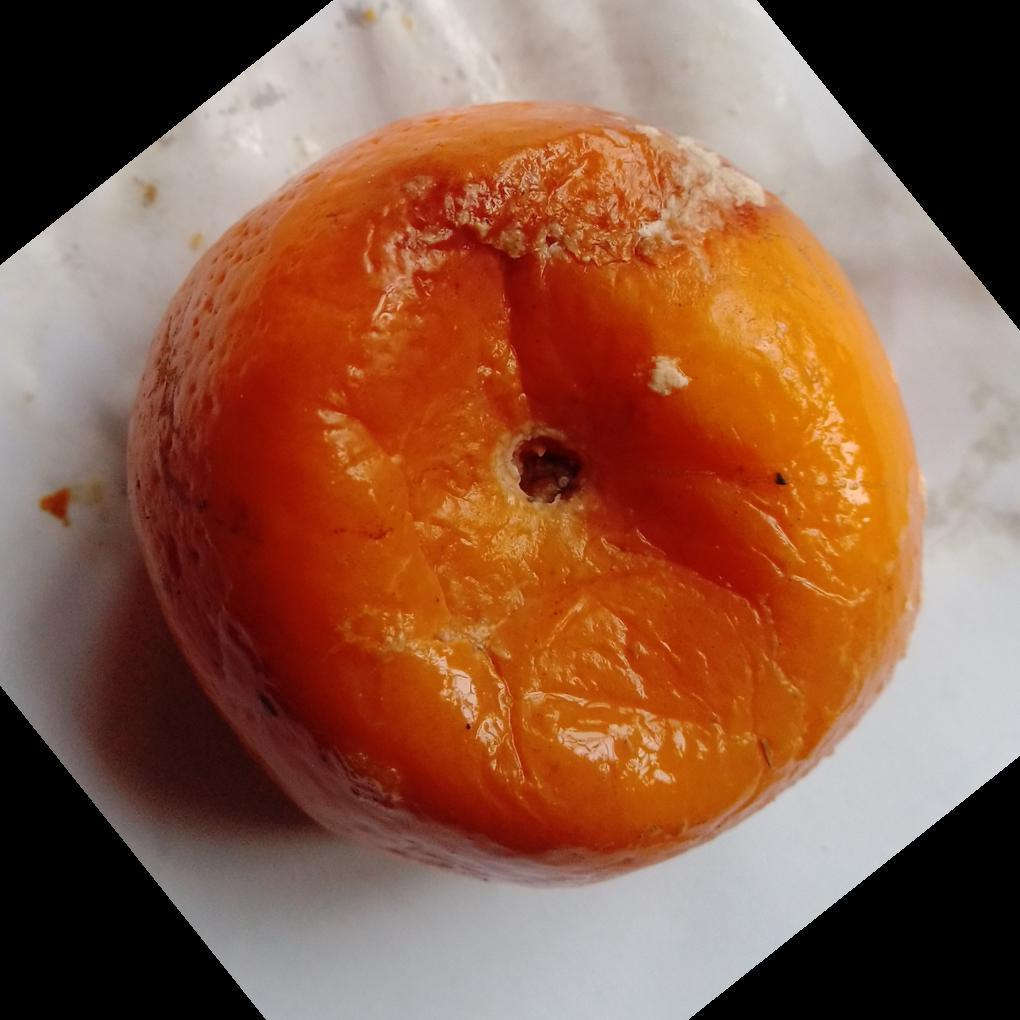FreshOrange: (123, 101, 927, 892)
